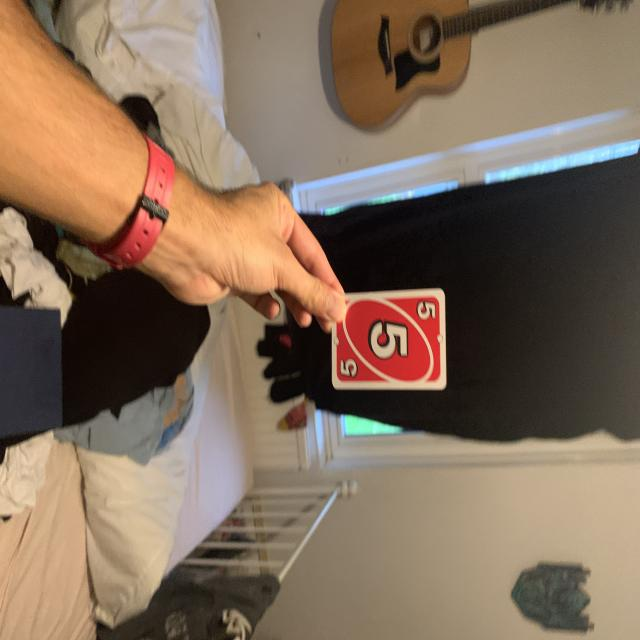lred-5: (415, 294, 439, 328)
